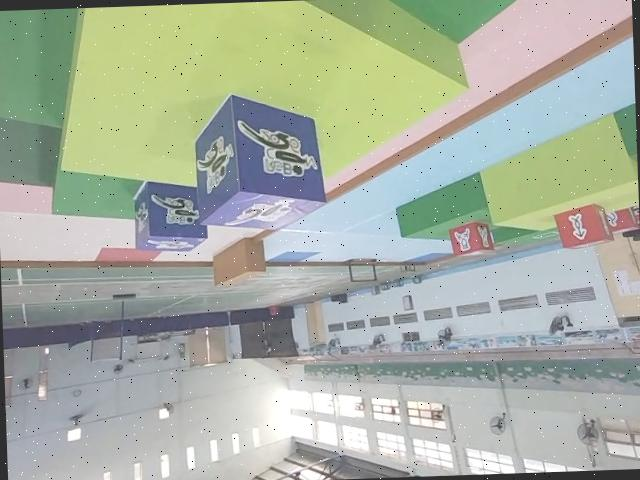R1 Blue: (194, 90, 329, 233), (130, 178, 209, 254)
